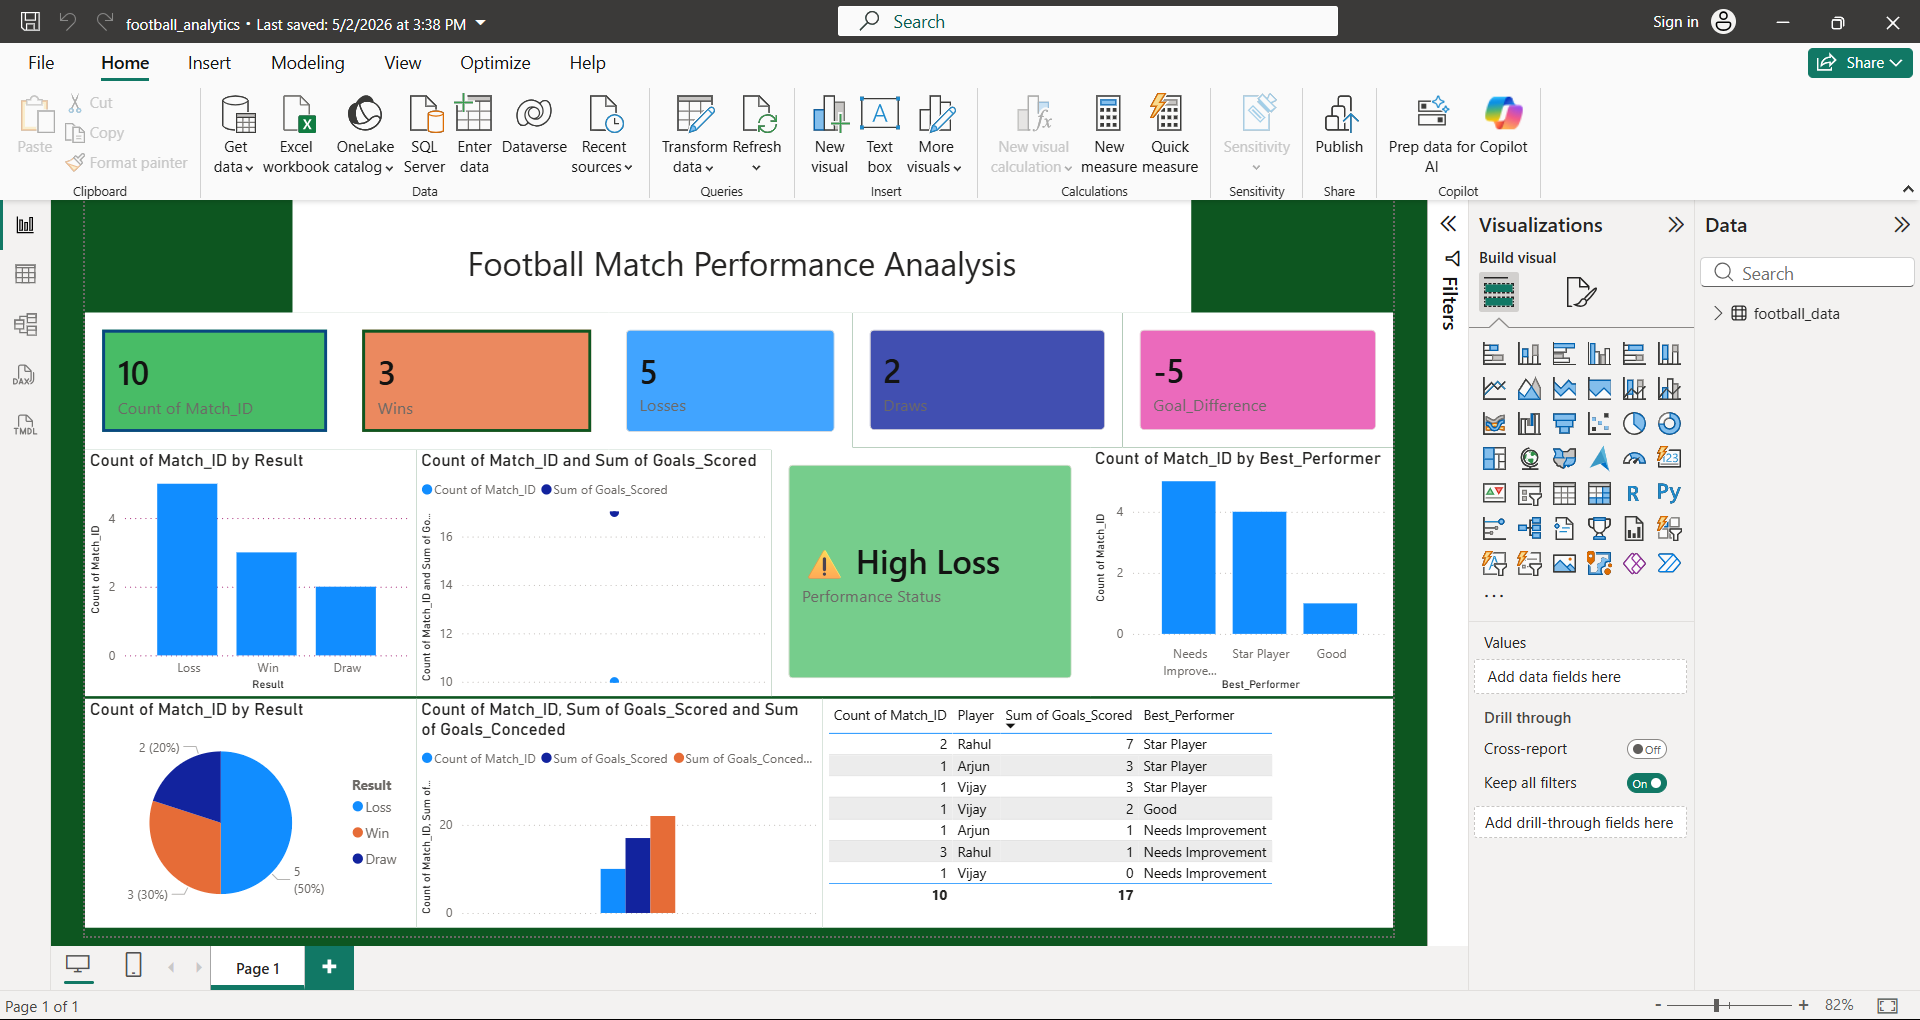

What the dashboard file says about the page in this screenshot:
{"tool":"powerbi","page":{"name":"Page 1","canvas":[1280,720],"ordinal":0},"visuals":[{"type":"cardVisual","fields":{"Data":["CountNonNull(football_data.Match_ID)"]},"box":[9.6,0,279.9,270.3],"z":0},{"type":"cardVisual","fields":{"Data":["football_data.Wins"]},"box":[277.2,0,279.9,270.3],"z":1000},{"type":"cardVisual","fields":{"Data":["football_data.Losses"]},"box":[531,0,279.9,270.3],"z":2000},{"type":"cardVisual","fields":{"Data":["football_data.Draws"]},"box":[791.8,0,279.9,270.3],"z":3000},{"type":"cardVisual","fields":{"Data":["football_data.Goal_Difference"]},"box":[1000.3,0,279.9,262.1],"z":4000},{"type":"lineChart","fields":{"Y":["CountNonNull(football_data.Match_ID)","Sum(football_data.Goals_Scored)"]},"box":[263.5,279.9,279.9,229.2],"z":5000},{"type":"clusteredColumnChart","fields":{"Category":["football_data.Result"],"Y":["CountNonNull(football_data.Match_ID)"]},"box":[0,270.3,279.9,194.9],"z":6000},{"type":"pieChart","fields":{"Category":["football_data.Result"],"Y":["CountNonNull(football_data.Match_ID)"]},"box":[19.2,517.3,279.9,194.9],"z":7000},{"type":"clusteredColumnChart","fields":{"Category":["football_data.Best_Performer"],"Y":["CountNonNull(football_data.Match_ID)"]},"box":[813.7,262.1,267.6,194.9],"z":8000},{"type":"clusteredColumnChart","fields":{"Y":["CountNonNull(football_data.Match_ID)","Sum(football_data.Goals_Scored)","Sum(football_data.Goals_Conceded)"]},"box":[392.5,509.1,269,203.1],"z":9000},{"type":"tableEx","fields":{"Values":["CountNonNull(football_data.Match_ID)","football_data.Player","Sum(football_data.Goals_Scored)","football_data.Best_Performer"]},"box":[721.8,488.5,500.9,211.3],"z":10000},{"type":"cardVisual","fields":{"Data":["football_data.Performance Status"]},"box":[529.7,262.1,262.1,211.3],"z":11000}]}

Visuals, with their boxes on the page's 1280x720 design canvas (x1, y1, x2, y2). These are canvas units, not pixel positions in the 1920x1020 screenshot, which may show the page scaled, cropped or inside an application window:
cardVisual - CountNonNull(football_data.Match_ID): 10 0 290 270
cardVisual - football_data.Wins: 277 0 557 270
cardVisual - football_data.Losses: 531 0 811 270
cardVisual - football_data.Draws: 792 0 1072 270
cardVisual - football_data.Goal_Difference: 1000 0 1280 262
lineChart - CountNonNull(football_data.Match_ID) x Sum(football_data.Goals_Scored): 264 280 543 509
clusteredColumnChart - football_data.Result x CountNonNull(football_data.Match_ID): 0 270 280 465
pieChart - football_data.Result x CountNonNull(football_data.Match_ID): 19 517 299 712
clusteredColumnChart - football_data.Best_Performer x CountNonNull(football_data.Match_ID): 814 262 1081 457
clusteredColumnChart - CountNonNull(football_data.Match_ID) x Sum(football_data.Goals_Scored): 392 509 662 712
tableEx - CountNonNull(football_data.Match_ID) x football_data.Player: 722 488 1223 700
cardVisual - football_data.Performance Status: 530 262 792 473
